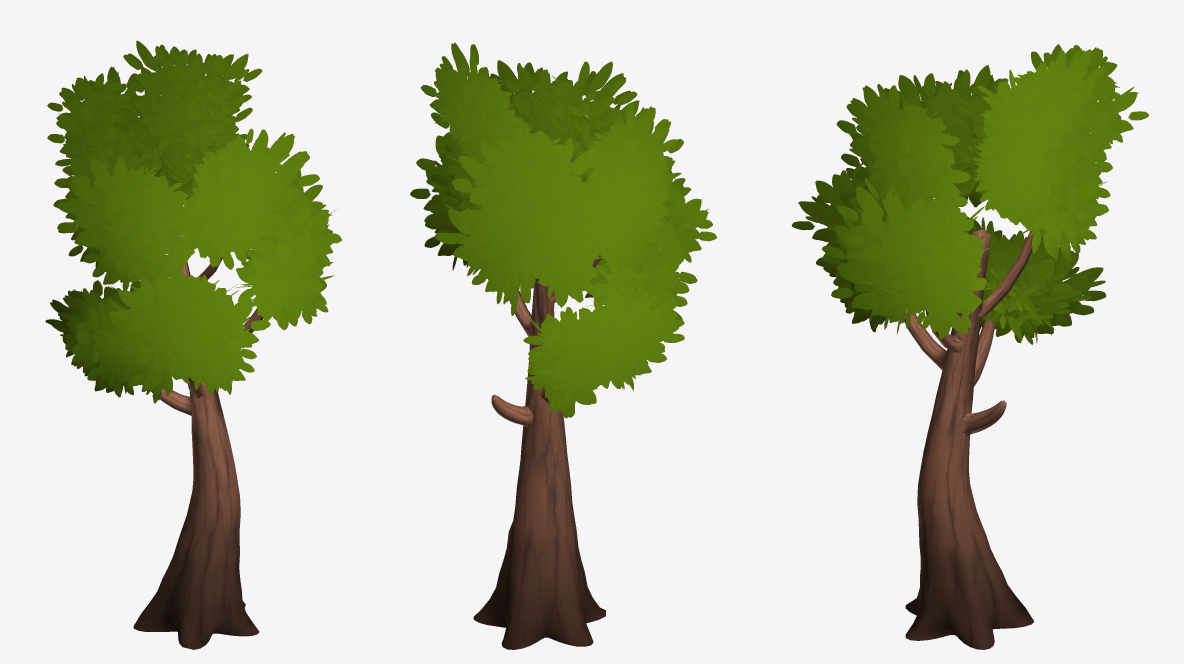
Rendered from oak_5.glb.
The picture shows the model from 3 angles, left to right: view 1: azimuth 30°, elevation 25°; view 2: azimuth 150°, elevation 25°; view 3: azimuth 270°, elevation 25°; orthographic projection. The views are drawn at different scales.
Parts seen in each view (by area): view 1: CommonTree_5; view 2: CommonTree_5; view 3: CommonTree_5.
Part boxes in pixels (x1,y1,x2,y2): CommonTree_5: (45,40,341,649); CommonTree_5: (410,42,716,649); CommonTree_5: (791,44,1148,649).
Bounding box in the file's own units: 3.67 × 7.01 × 4.22.
Materials: 2 (2 with a texture image).
